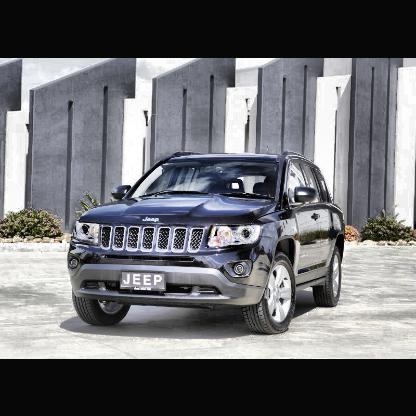Jeep Compass SUV 2012: (68, 151, 347, 335)
